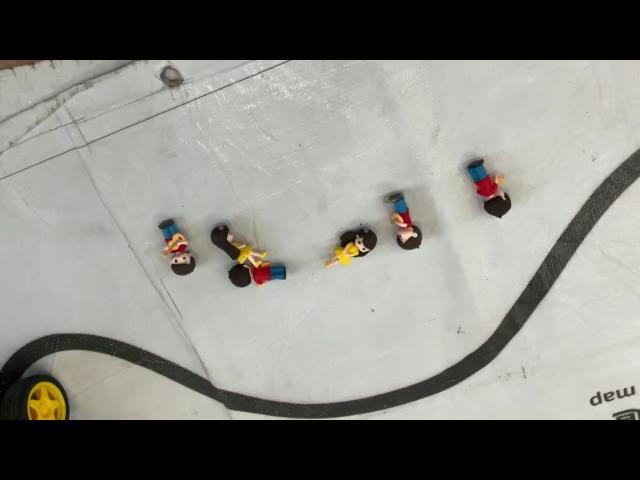man: (463, 154, 517, 222), (380, 190, 424, 254), (156, 215, 200, 277), (229, 261, 289, 289)
woman: (209, 223, 267, 269), (322, 226, 378, 272)
